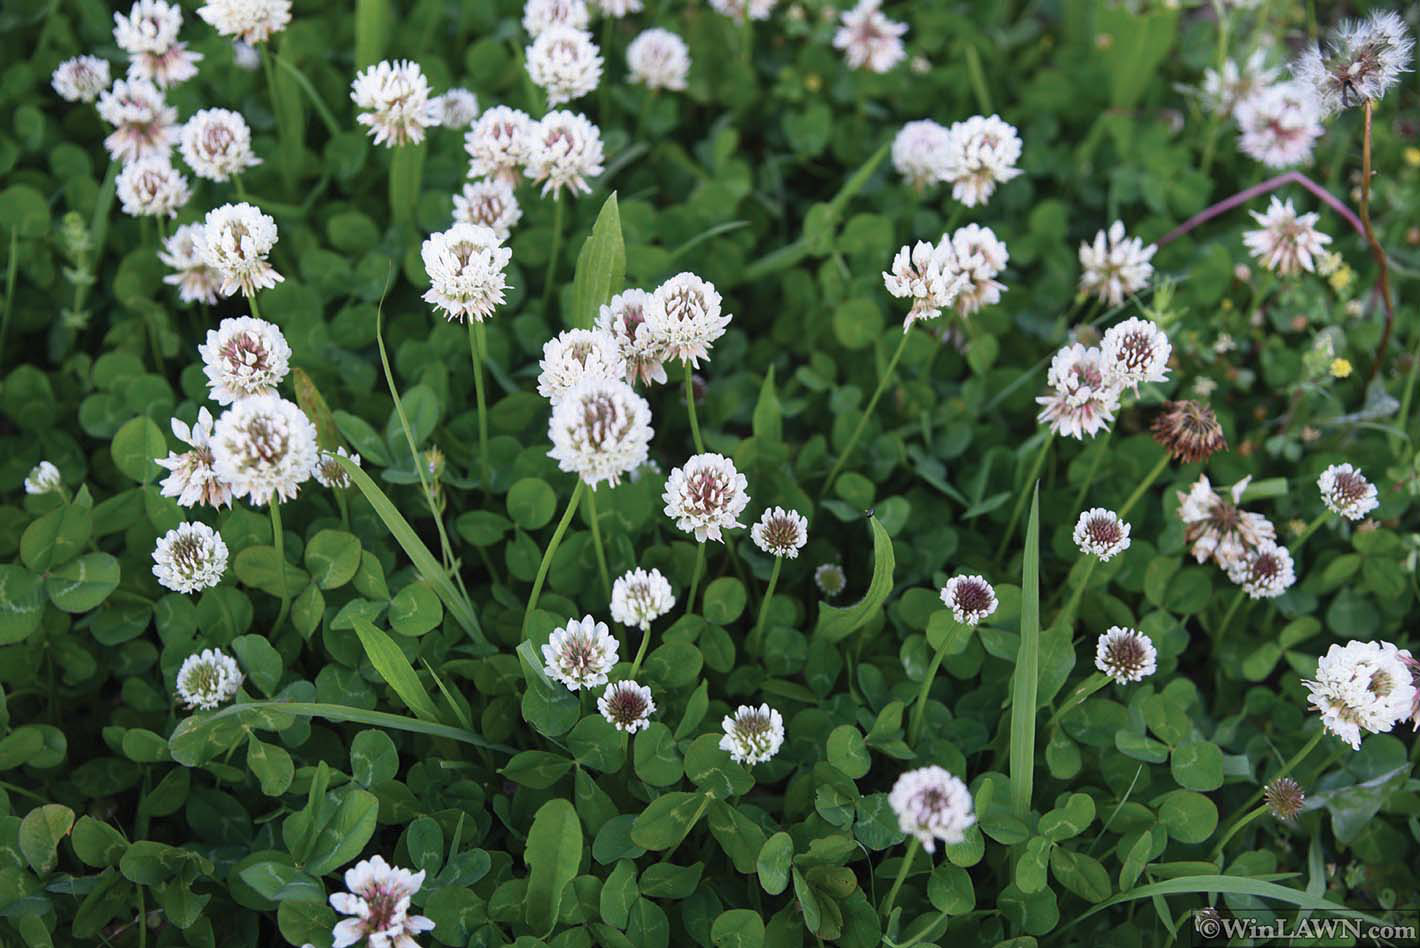clover: (11, 12, 1407, 917)
